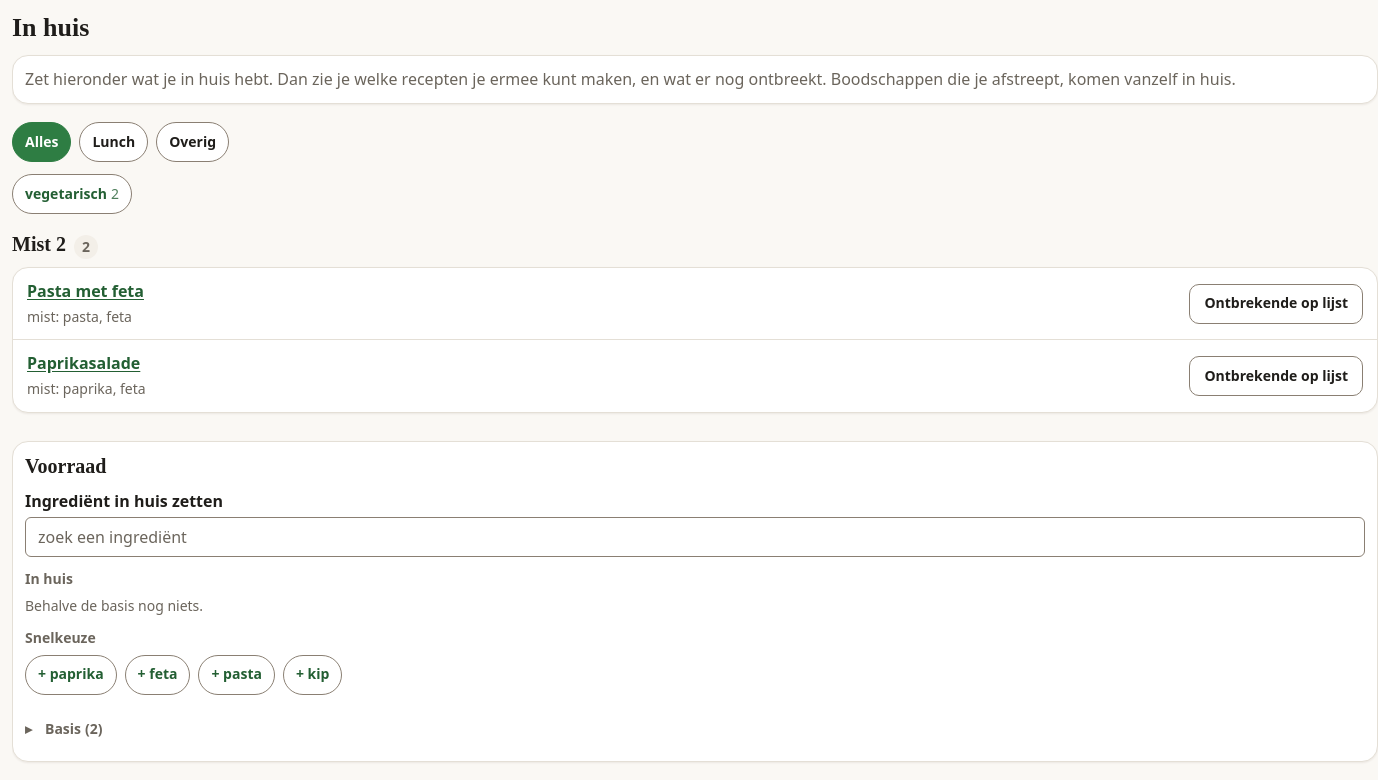
Test: PantryView › Ontbrekende op lijst: de ontbrekende regel-id's met de porties van het recept
Click the button with class "add-missing" in the row of "Paprikasalade". click: point(1276, 376)
box: [1189,356,1363,396]
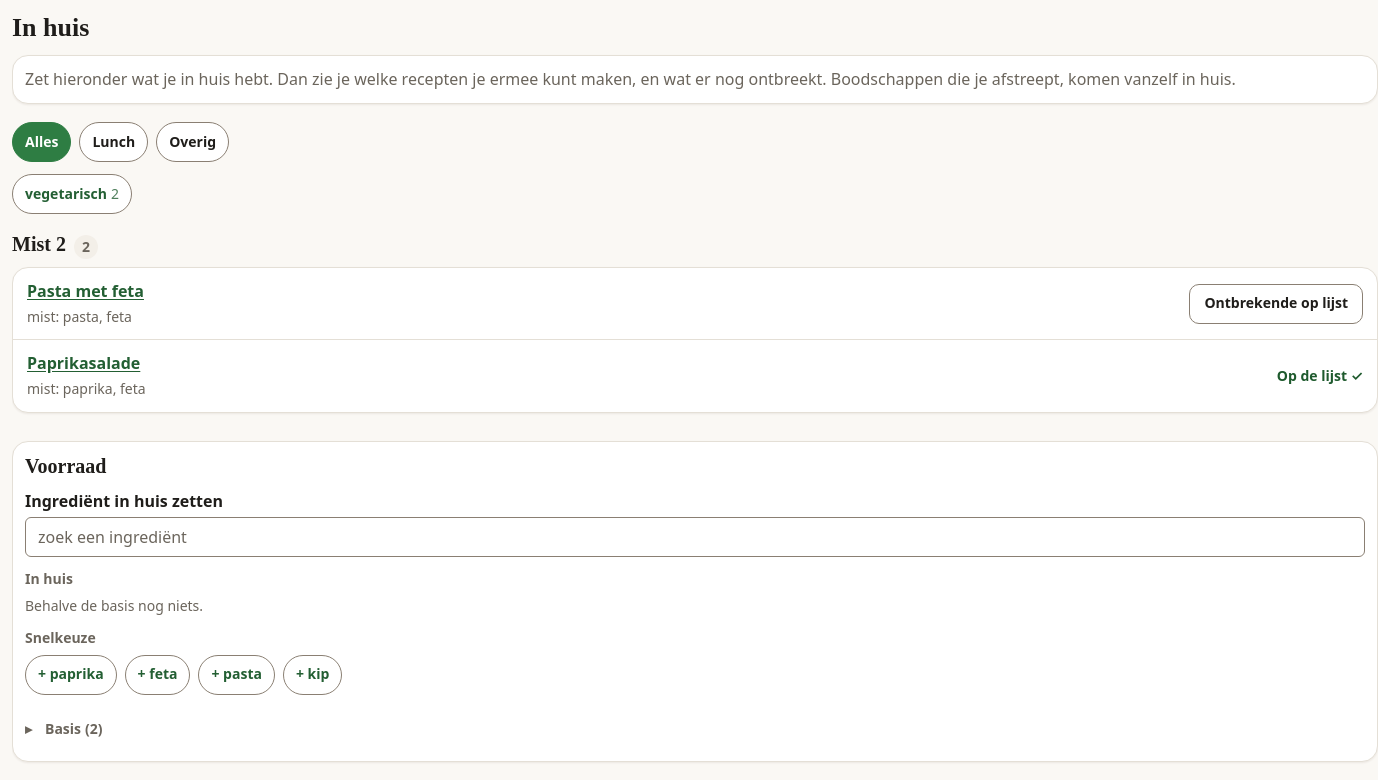
Result: the message with class "added" reads "Op de lijst ✓" at [1277,366,1363,385]
